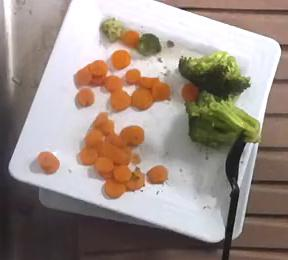broccoli: (179, 51, 260, 147)
carrots: (77, 111, 143, 197), (74, 60, 169, 110), (99, 16, 160, 55)
